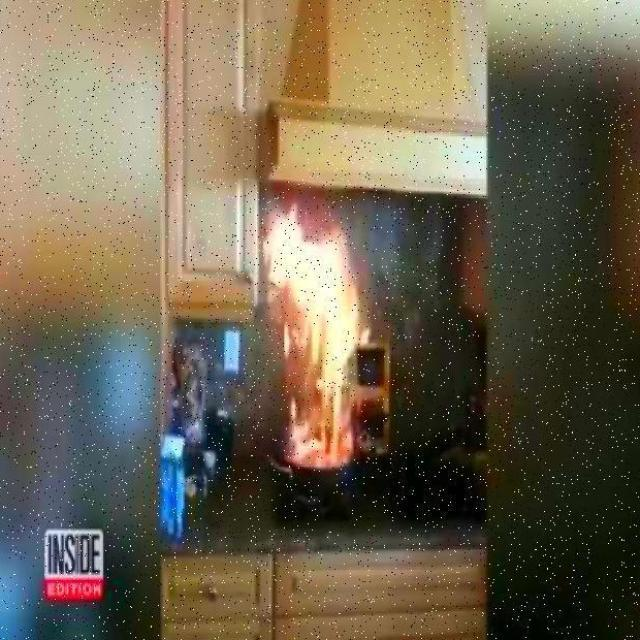smoke: (258, 202, 361, 466)
